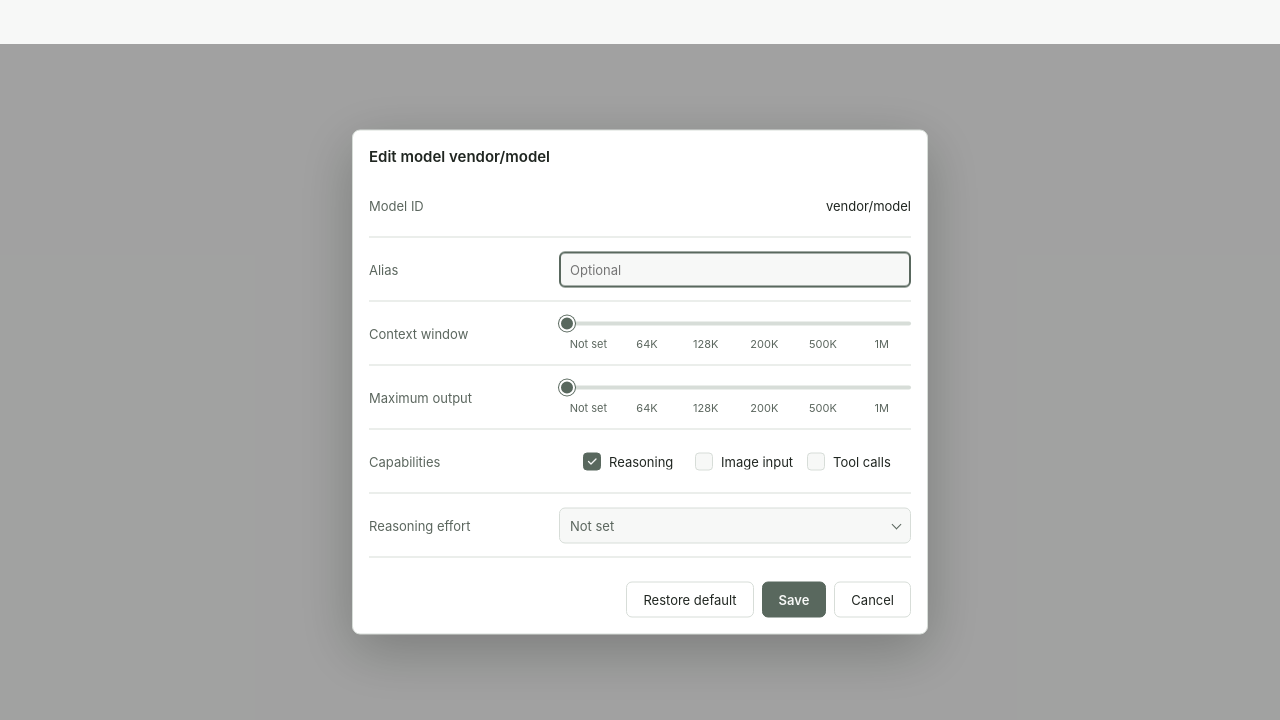
Test: every checkbox interaction declares and restore default clears the declarations
Expected: the button "Restore default" is disabled, [626, 582, 754, 618]
Note: Checking and clearing are both declarations, in both directions.
Click the checkbox named "Image input" at (704, 462), box [695, 452, 713, 470]
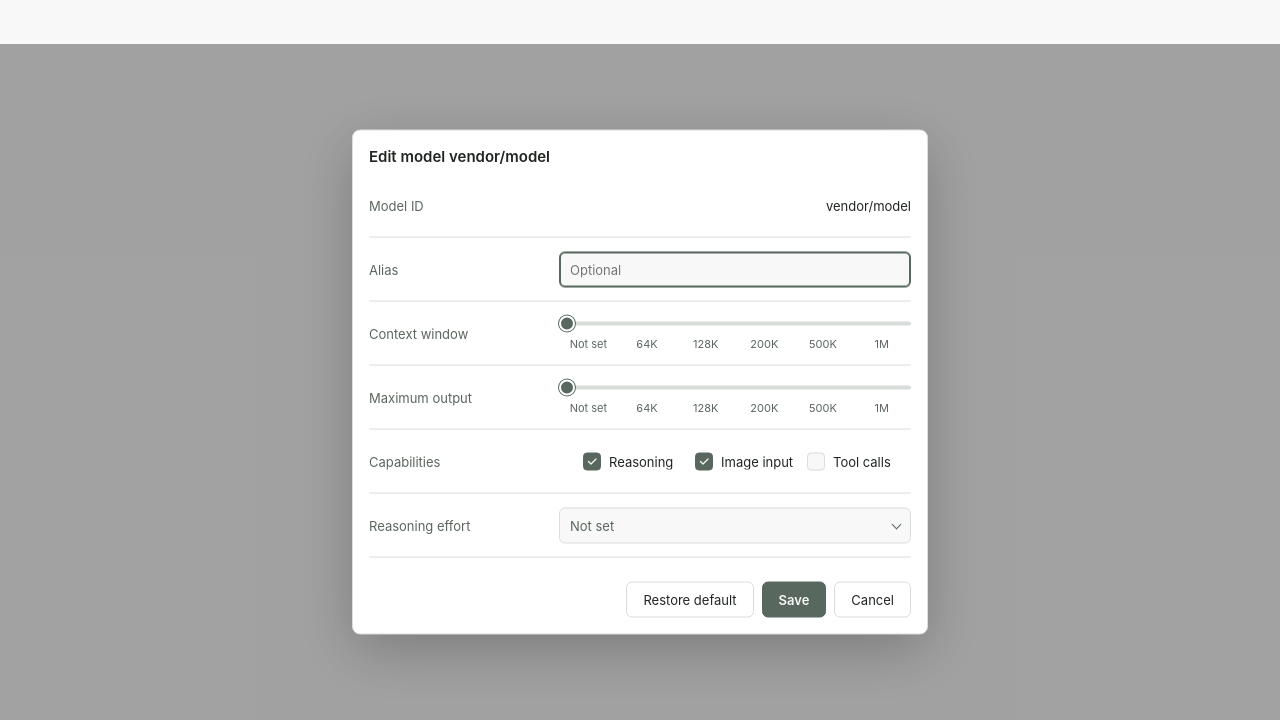
Click the checkbox named "Image input" at (704, 462), box [695, 452, 713, 470]
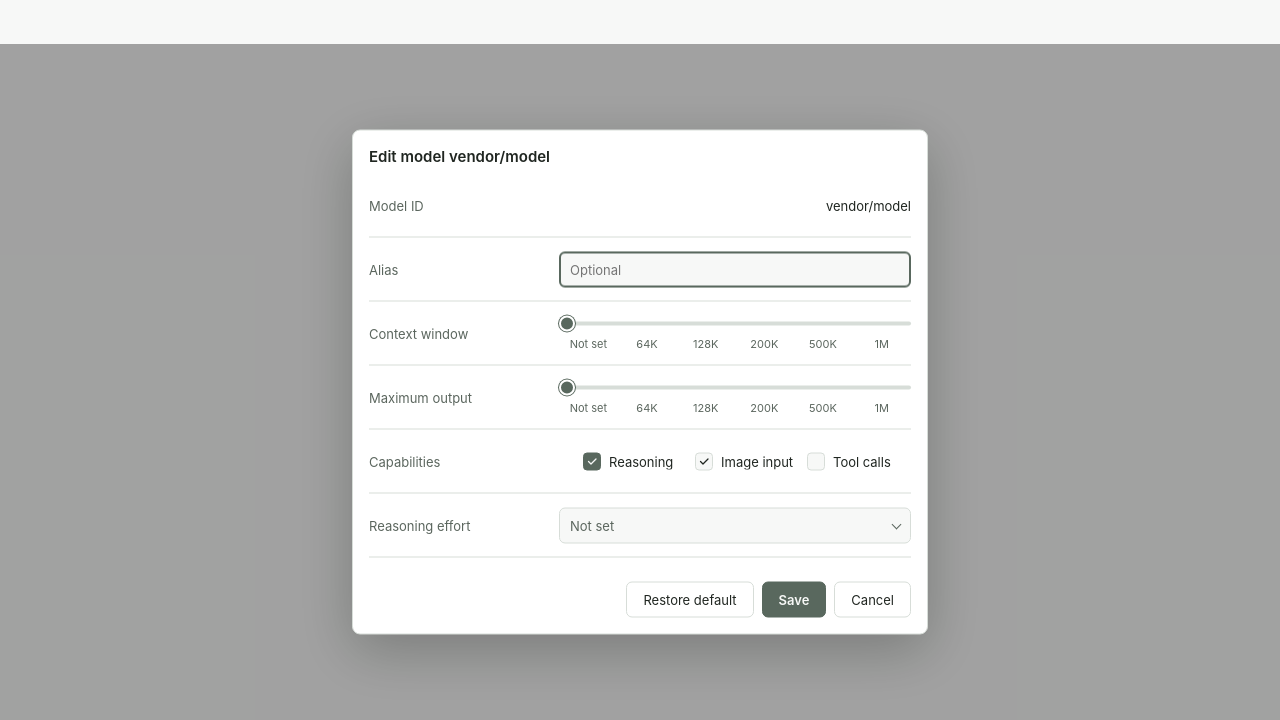
Click the checkbox named "Tool calls" at (816, 462), box [807, 452, 825, 470]
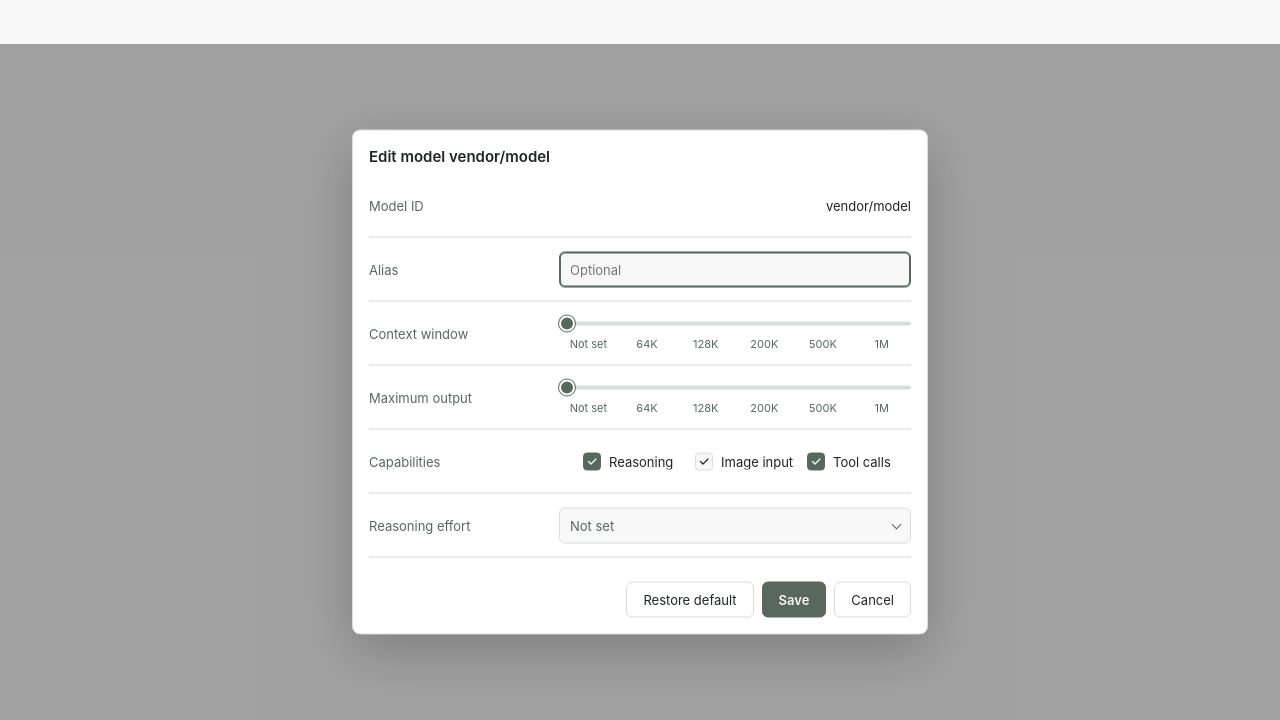
Click the button "Save" at (794, 600), box [762, 582, 826, 618]
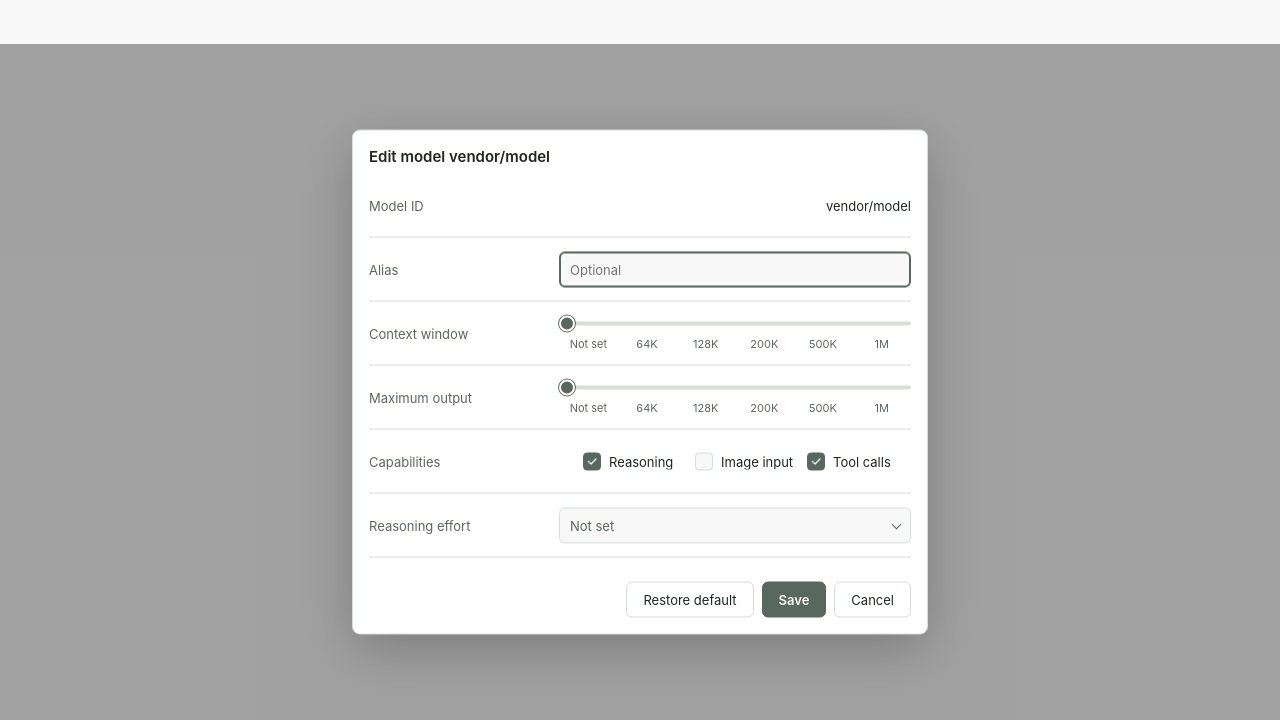
Click the checkbox named "Reasoning" at (592, 462), box [583, 452, 601, 470]
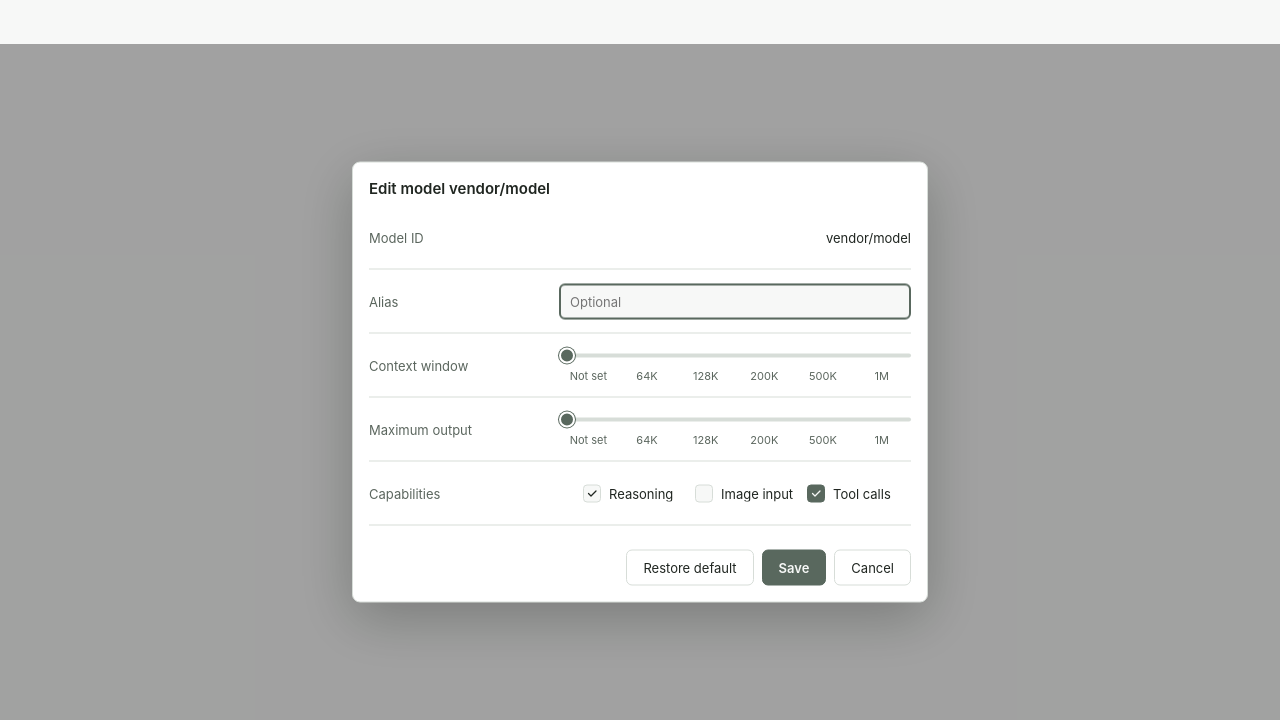
Click the button "Restore default" at (690, 568), box [626, 550, 754, 586]
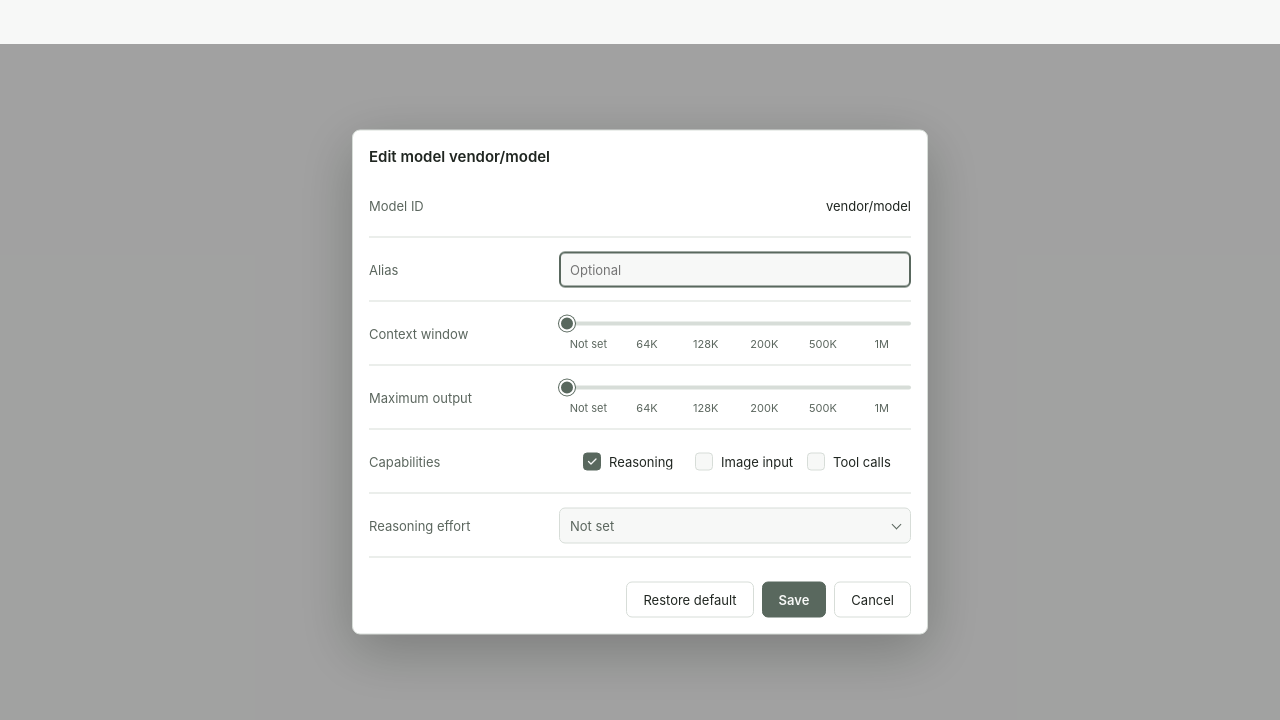
Expected: the button "Restore default" is disabled, [626, 582, 754, 618]
